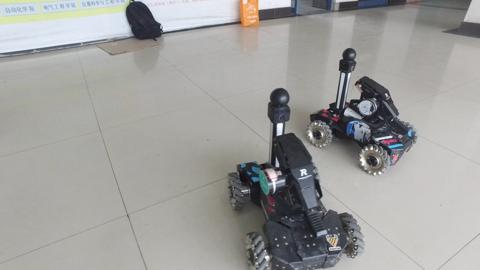chariot: (218, 84, 367, 270), (303, 42, 420, 180)
